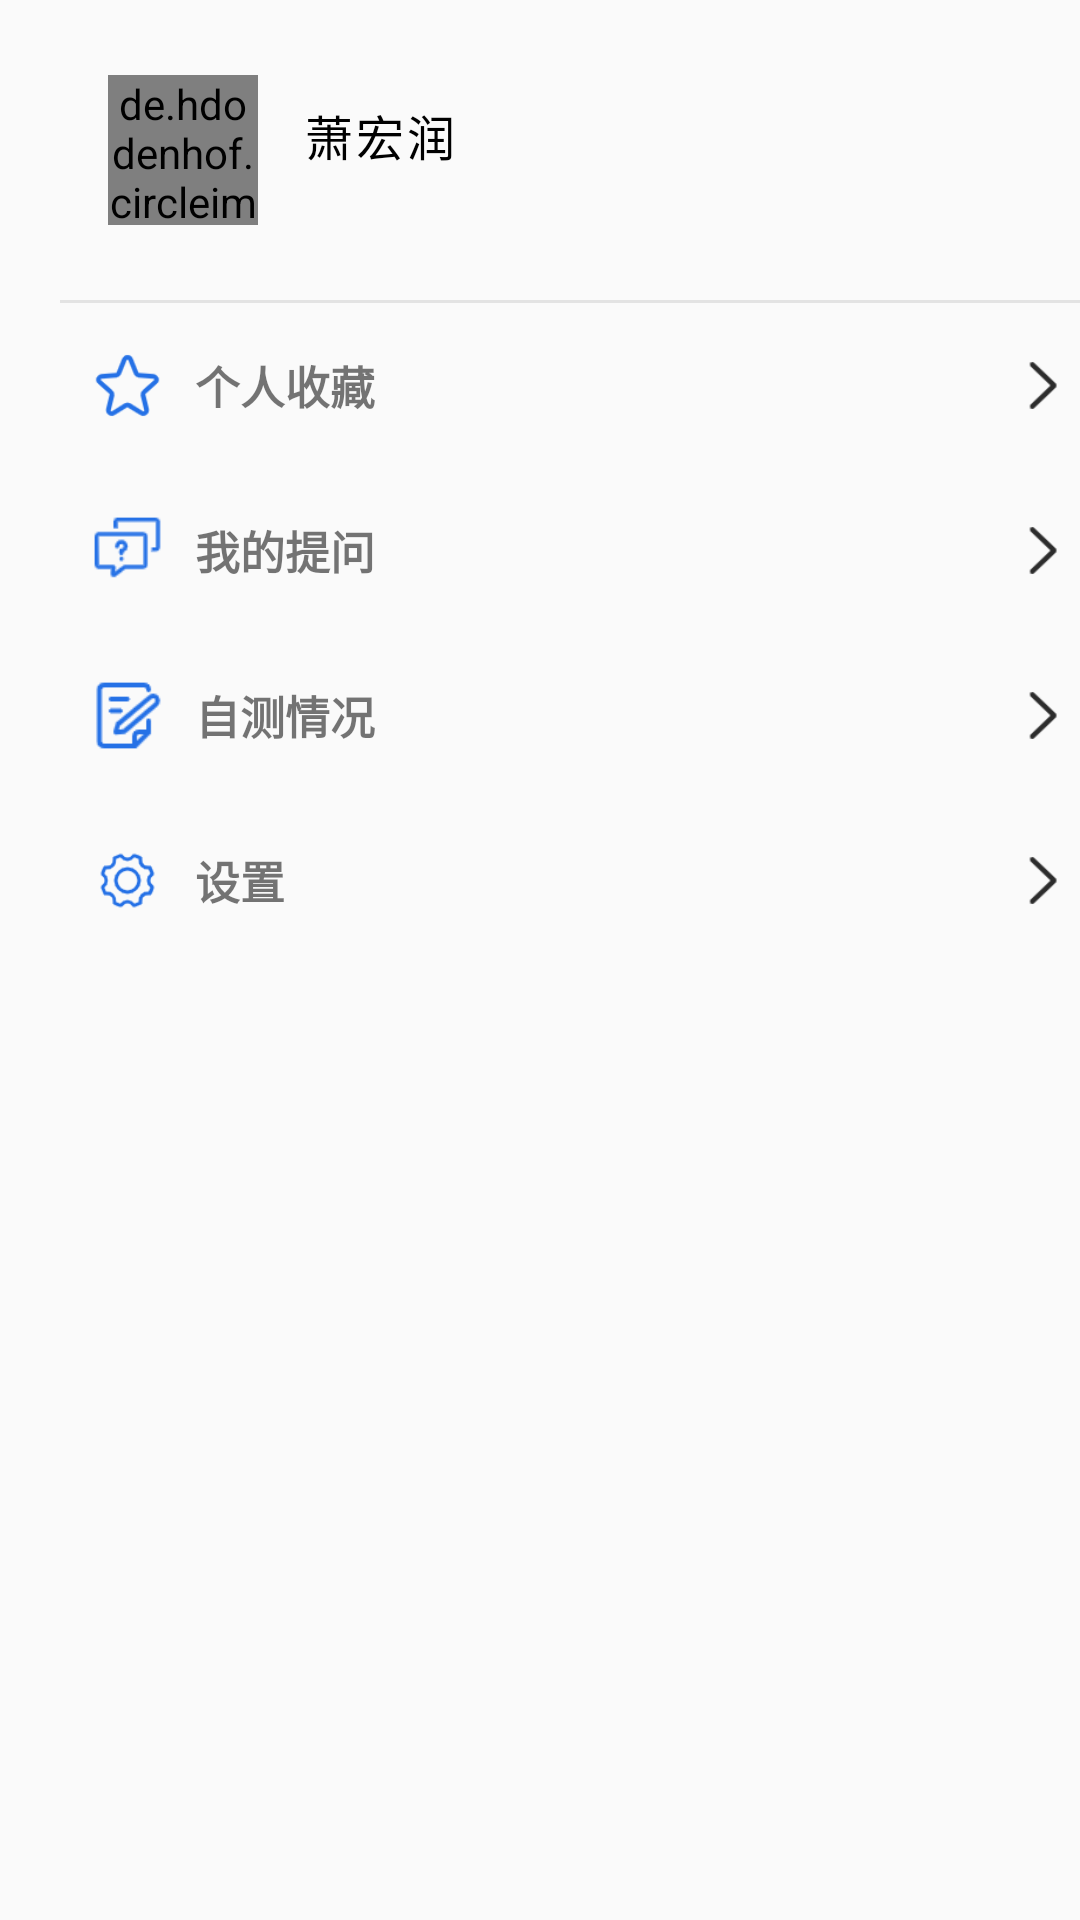

Named icons in this screenshot (1080w x 1920h) and their centers, point (x, y):
askquestion: point (127, 547)
favourite kino: point (127, 385)
right in: point (1043, 385), point (1043, 550), point (1043, 715), point (1043, 880)
setting kino: point (127, 880)
